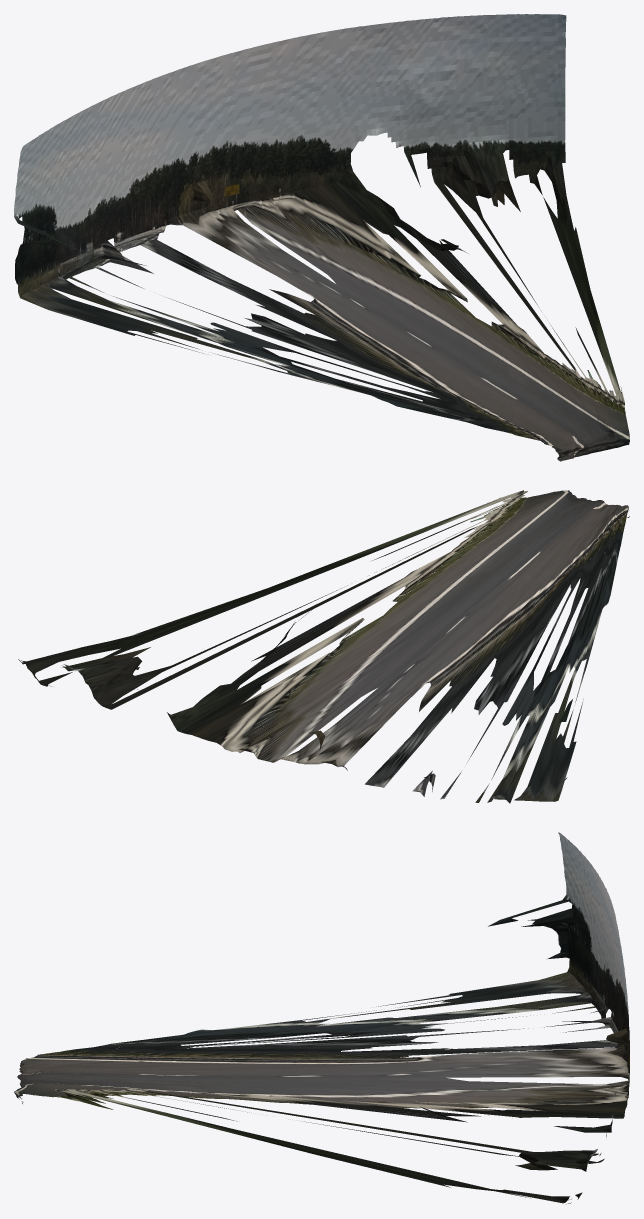
The picture shows the model from 3 angles, top to bottom: view 1: azimuth 30°, elevation 25°; view 2: azimuth 150°, elevation 25°; view 3: azimuth 270°, elevation 25°; orthographic projection. The views are drawn at different scales.
Visible parts, largest first — view 1: defaultobject; view 2: defaultobject; view 3: defaultobject.
Part boxes in pixels (bbox=[...]): defaultobject: bbox=[14, 14, 629, 461]; defaultobject: bbox=[18, 490, 629, 803]; defaultobject: bbox=[14, 832, 629, 1204].
Size of the model in its own units: 41.11 by 12.54 by 44.37.
Materials: 1 (1 with a texture image).
